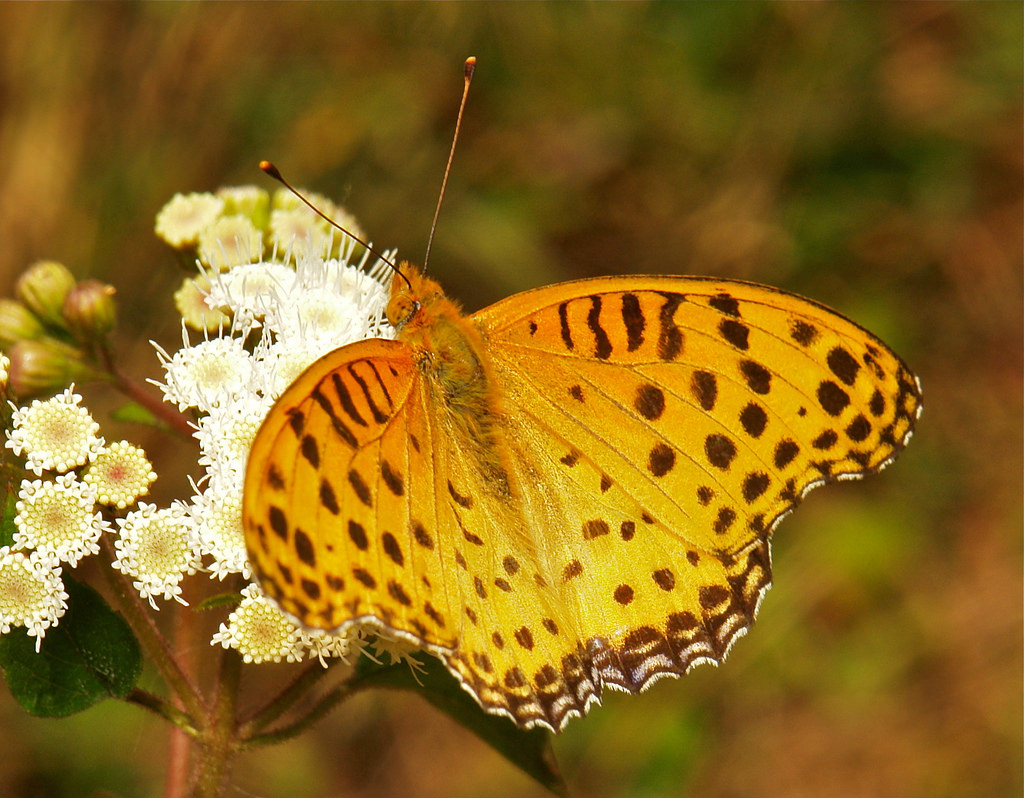Argyreus hyperbius: (227, 48, 922, 736)
butterfly: (229, 50, 924, 738)
